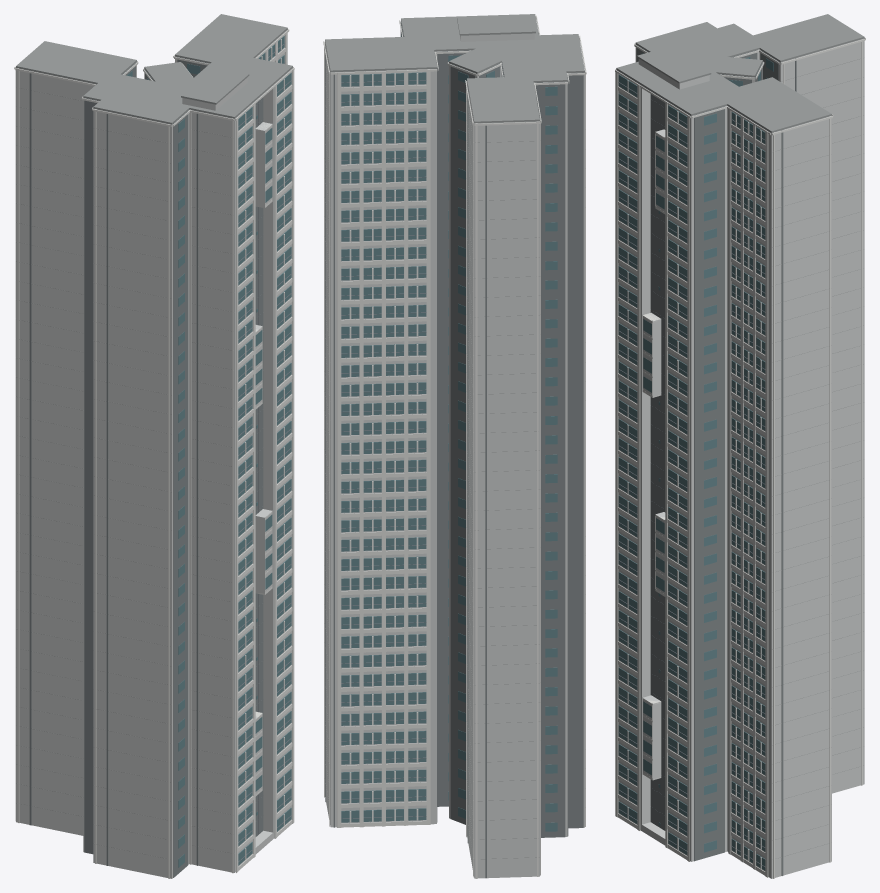
File: bespoke-seoulforest-riverview-xi-102.glb
3 renders of one model, left to right at view 1: azimuth 30°, elevation 25°; view 2: azimuth 150°, elevation 25°; view 3: azimuth 270°, elevation 25°, orthographic.
Parts seen in each view (by area): view 1: SFRX102_editable_SFRX102_light_grey_solid_wall, SFRX102_editable_SFRX102_broad_white_facade_frames, SFRX102_editable_SFRX102_deep_gray_recessed_service_wall, SFRX102_editable_SFRX102_modest_grey_flat_roof_caps, SFRX102_editable_SFRX102_blue_grey_horizontal_glazing, SFRX102_editable_SFRX102_dark_horizontal_spandrels_and_mulli; view 2: SFRX102_editable_SFRX102_light_grey_solid_wall, SFRX102_editable_SFRX102_deep_gray_recessed_service_wall, SFRX102_editable_SFRX102_broad_white_facade_frames, SFRX102_editable_SFRX102_blue_grey_horizontal_glazing, SFRX102_editable_SFRX102_modest_grey_flat_roof_caps, SFRX102_editable_SFRX102_dark_horizontal_spandrels_and_mulli; view 3: SFRX102_editable_SFRX102_light_grey_solid_wall, SFRX102_editable_SFRX102_broad_white_facade_frames, SFRX102_editable_SFRX102_blue_grey_horizontal_glazing, SFRX102_editable_SFRX102_deep_gray_recessed_service_wall, SFRX102_editable_SFRX102_modest_grey_flat_roof_caps, SFRX102_editable_SFRX102_dark_horizontal_spandrels_and_mulli.
Boxes of the visible parts, x1,y1,x2,y2 form: SFRX102_editable_SFRX102_light_grey_solid_wall: (16, 29, 292, 878); SFRX102_editable_SFRX102_broad_white_facade_frames: (14, 26, 294, 878); SFRX102_editable_SFRX102_deep_gray_recessed_service_wall: (29, 57, 263, 877); SFRX102_editable_SFRX102_modest_grey_flat_roof_caps: (16, 14, 292, 859); SFRX102_editable_SFRX102_blue_grey_horizontal_glazing: (127, 36, 291, 867); SFRX102_editable_SFRX102_dark_horizontal_spandrels_and_mulli: (238, 43, 291, 862); SFRX102_editable_SFRX102_light_grey_solid_wall: (325, 27, 584, 878); SFRX102_editable_SFRX102_deep_gray_recessed_service_wall: (325, 21, 583, 878); SFRX102_editable_SFRX102_broad_white_facade_frames: (323, 15, 586, 878); SFRX102_editable_SFRX102_blue_grey_horizontal_glazing: (341, 34, 557, 831); SFRX102_editable_SFRX102_modest_grey_flat_roof_caps: (325, 14, 584, 859); SFRX102_editable_SFRX102_dark_horizontal_spandrels_and_mulli: (341, 80, 426, 818); SFRX102_editable_SFRX102_light_grey_solid_wall: (616, 38, 864, 878); SFRX102_editable_SFRX102_broad_white_facade_frames: (615, 37, 865, 878); SFRX102_editable_SFRX102_blue_grey_horizontal_glazing: (618, 53, 773, 870); SFRX102_editable_SFRX102_deep_gray_recessed_service_wall: (636, 45, 796, 875); SFRX102_editable_SFRX102_modest_grey_flat_roof_caps: (616, 14, 864, 859); SFRX102_editable_SFRX102_dark_horizontal_spandrels_and_mulli: (618, 82, 765, 867).
Bounding box in the file's own units: 38.44 × 114 × 34.36.
